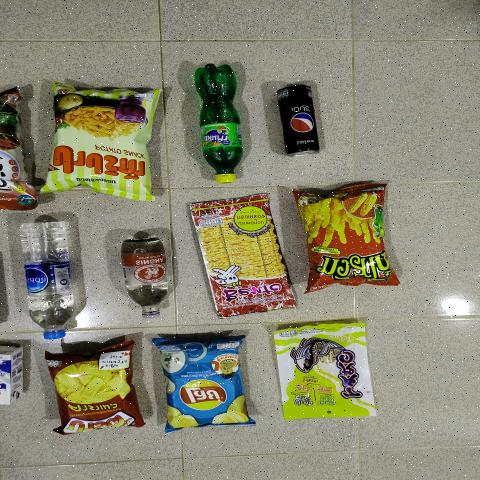bento_red: (208, 197, 279, 320)
crystal: (23, 217, 80, 343)
fanta_green: (201, 58, 240, 182)
lay_blue: (166, 341, 245, 427)
paprika: (43, 86, 155, 192)
party_red: (56, 354, 136, 434)
pepsi_black: (278, 82, 323, 161)
singha_soda: (118, 236, 172, 320)
taro_yellow: (287, 324, 371, 419)
twisco: (310, 193, 388, 288)
